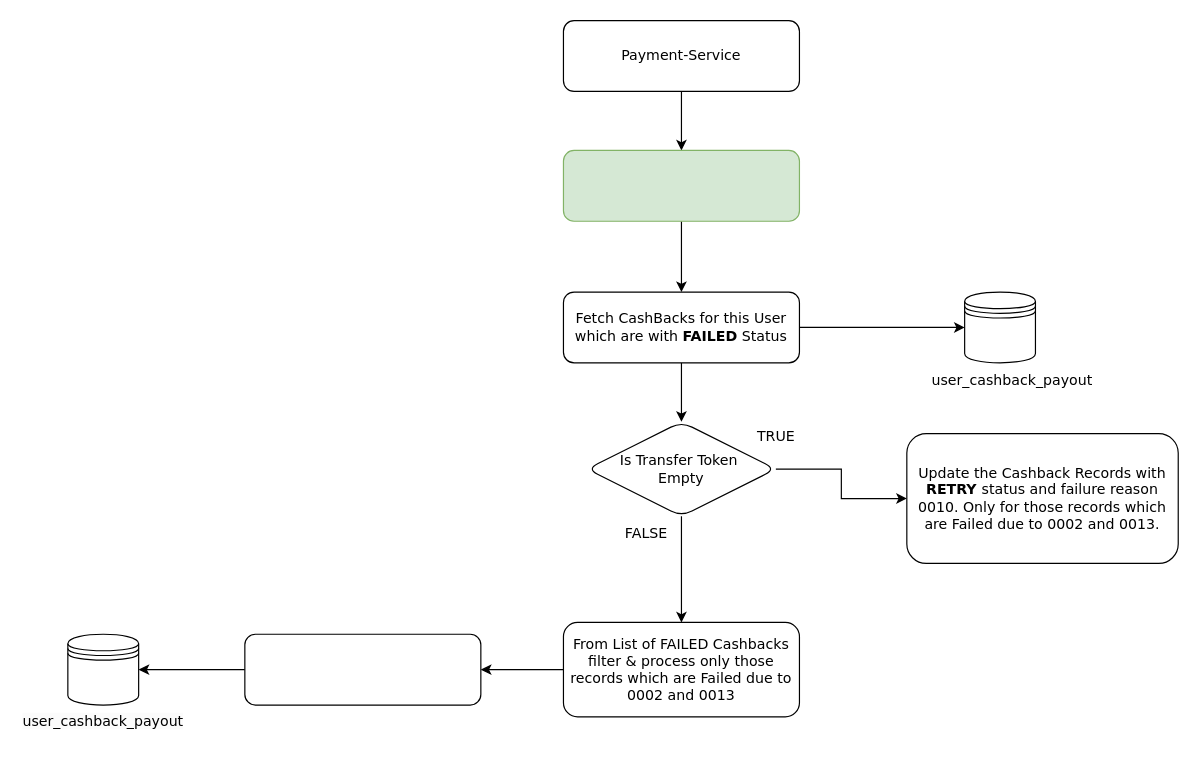
This 1199x773 diagram has some shape labels left out. The shapes that lost their labels are listed below. From the top down, each one's centre as x and y in pixels, then its label:
the point at 680,185: Create Transfer Token
the point at 362,669: Update the Status to RETRY so the Retry Job Process the Record
